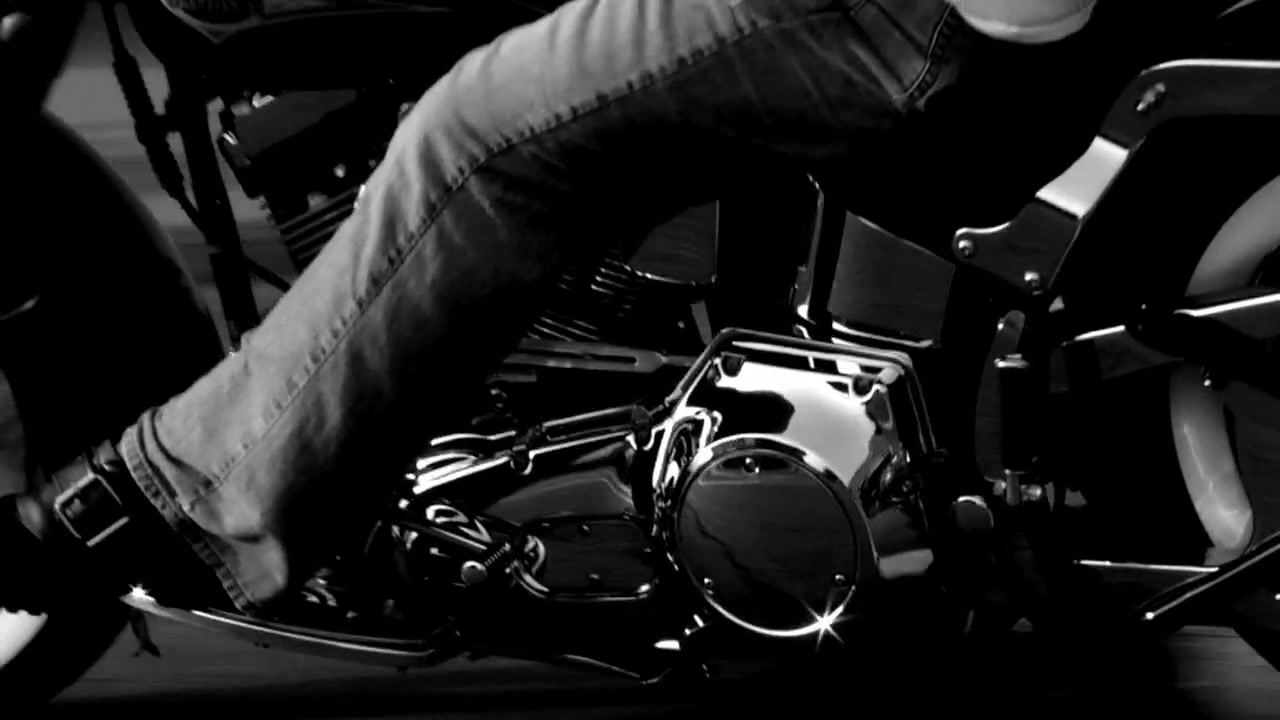motorbike: (1, 5, 1280, 718)
